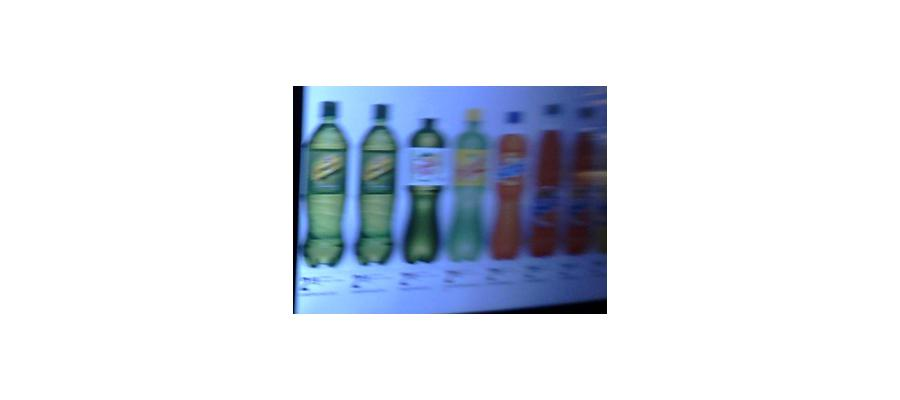bottle: (301, 102, 351, 270), (354, 102, 401, 271), (398, 122, 451, 269), (450, 113, 494, 262)
